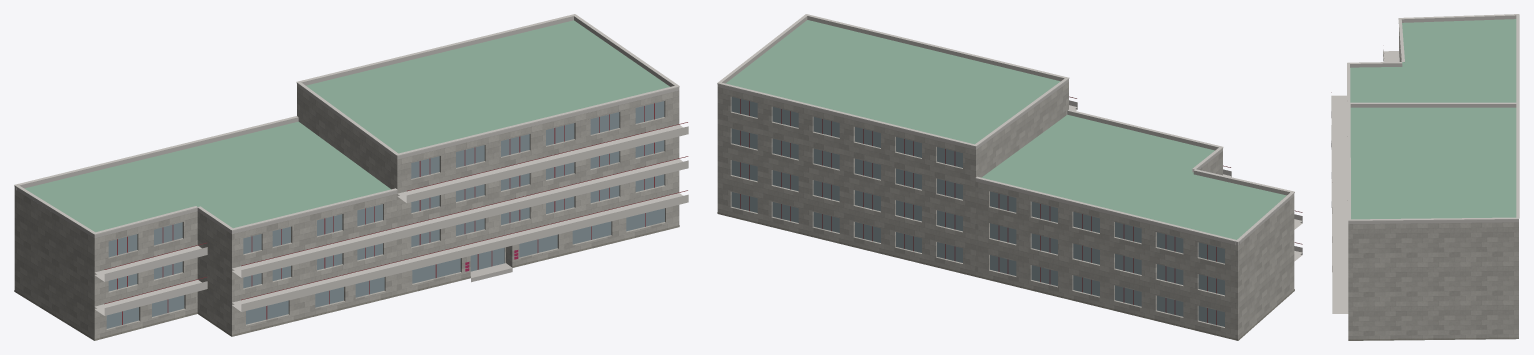
3 renders of one model, left to right at view 1: azimuth 30°, elevation 25°; view 2: azimuth 150°, elevation 25°; view 3: azimuth 270°, elevation 25°, orthographic. The views are drawn at different scales.
Parts seen in each view (by area): view 1: osm136188887__wall, osm136188887__roof, osm136188887__trim, osm136188887__glass, osm136188887__parapet, osm136188887__frame, osm136188887__base; view 2: osm136188887__wall, osm136188887__roof, osm136188887__glass, osm136188887__parapet, osm136188887__trim, osm136188887__frame, osm136188887__base; view 3: osm136188887__roof, osm136188887__wall, osm136188887__trim, osm136188887__parapet, osm136188887__base.
Boxes of the visible parts, box(x1,y1,x2,y2) form: osm136188887__wall: box(14, 86, 679, 340); osm136188887__roof: box(24, 20, 669, 340); osm136188887__trim: box(14, 14, 688, 315); osm136188887__glass: box(106, 101, 664, 328); osm136188887__parapet: box(14, 16, 679, 238); osm136188887__frame: box(104, 103, 688, 324); osm136188887__base: box(14, 225, 679, 340); osm136188887__wall: box(717, 82, 1294, 340); osm136188887__roof: box(726, 20, 1286, 239); osm136188887__glass: box(731, 97, 1224, 326); osm136188887__parapet: box(717, 16, 1294, 245); osm136188887__trim: box(717, 14, 1302, 261); osm136188887__frame: box(740, 96, 1302, 325); osm136188887__base: box(717, 212, 1294, 340); osm136188887__roof: box(1350, 19, 1516, 340); osm136188887__wall: box(1348, 28, 1518, 339); osm136188887__trim: box(1331, 14, 1519, 313); osm136188887__parapet: box(1348, 15, 1518, 224); osm136188887__base: box(1348, 337, 1518, 340).
Bounding box in the file's own units: 62.45 × 15.25 × 21.06.
Materials: 10 (2 with a texture image).
